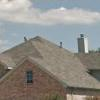Chimney: (70, 27, 93, 57)
